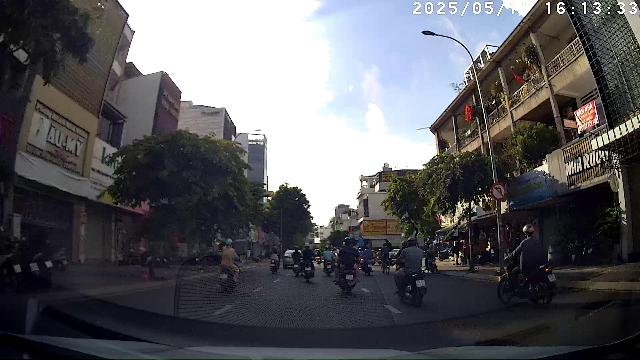123a-cam-re-trai: (490, 182, 507, 201)
